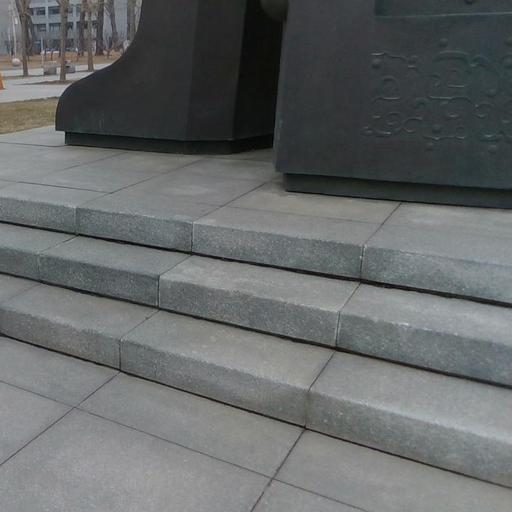stairs: (0, 159, 511, 486)
